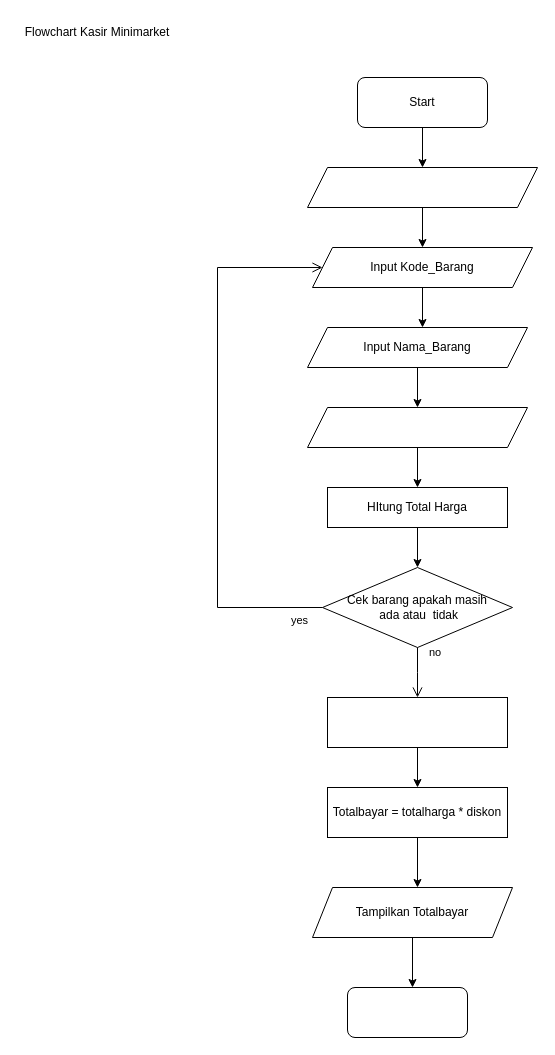
Some shapes in this 555 by 1055 pixel diagram are drawn without their labels. Here are the shapes that lost their labels. From the top down, the centre of each, then its label:
At (422,187): "Input No Faktur".
At (417,427): "Input Jumlah_Barang".
At (417,722): "Diskon = totalharga * diskon".
At (407,1012): "Finish".
